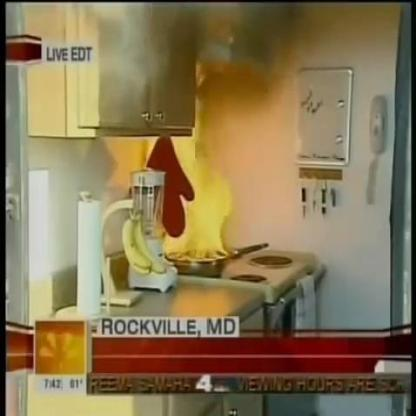fire: (149, 56, 229, 264)
